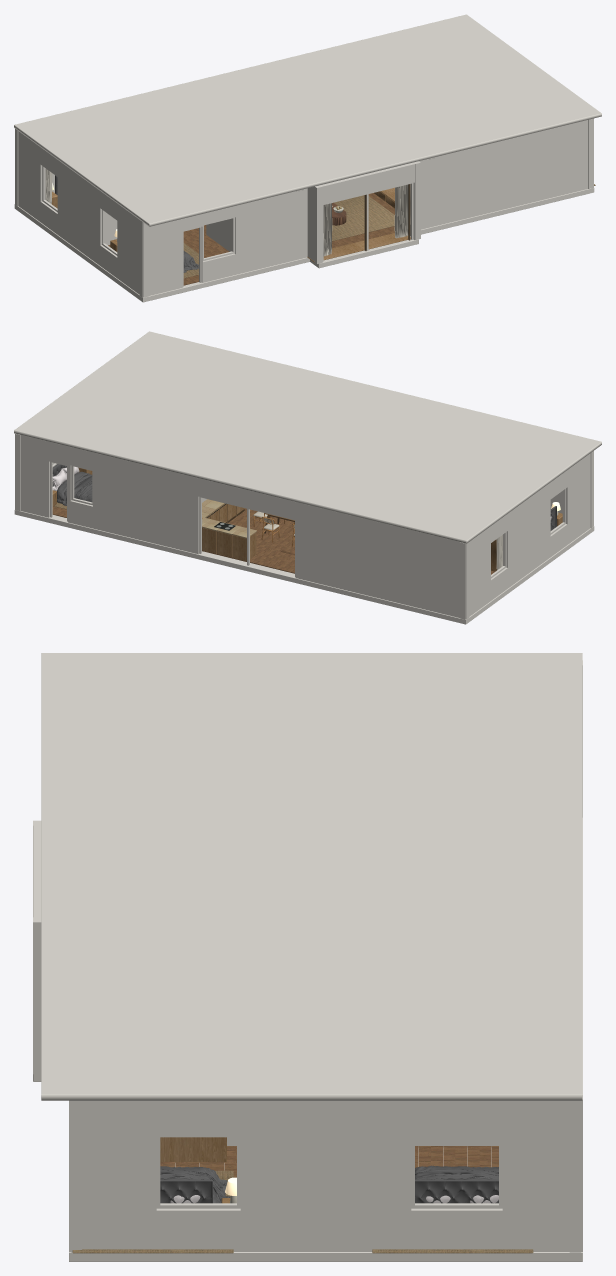
The model's file is modern_villa.glb.
3 renders of one model, top to bottom at view 1: azimuth 30°, elevation 25°; view 2: azimuth 150°, elevation 25°; view 3: azimuth 270°, elevation 25°, orthographic. The views are drawn at different scales.
Visible parts, largest first — view 1: Full apartment ceiling, Continuous full-height plaster architecture, Browser cutaway architecture, Main footprint, Wool area rug, South right linen drape, South entry oak floor, Recessed south entry, South left linen drape; view 2: Full apartment ceiling, Continuous full-height plaster architecture, Browser cutaway architecture, Main footprint, Cube.015, North run base; view 3: Full apartment ceiling, Continuous full-height plaster architecture, Browser cutaway architecture, Main footprint, Plane.010, SE full-height wardrobe, Plane.013, Southeast bedroom wool rug, Northeast bedroom wool rug, Plane.012.
Boxes of the visible parts, bbox=[...] form: Full apartment ceiling: bbox=[14, 14, 601, 226]; Continuous full-height plaster architecture: bbox=[15, 118, 593, 297]; Browser cutaway architecture: bbox=[18, 152, 593, 297]; Main footprint: bbox=[14, 188, 594, 302]; Wool area rug: bbox=[332, 195, 394, 241]; South right linen drape: bbox=[394, 184, 410, 238]; South entry oak floor: bbox=[307, 233, 410, 262]; Recessed south entry: bbox=[310, 236, 418, 268]; South left linen drape: bbox=[323, 203, 332, 256]; Full apartment ceiling: bbox=[14, 331, 601, 543]; Continuous full-height plaster architecture: bbox=[15, 433, 593, 619]; Browser cutaway architecture: bbox=[15, 463, 593, 619]; Main footprint: bbox=[14, 510, 594, 624]; Cube.015: bbox=[57, 471, 92, 505]; North run base: bbox=[232, 532, 256, 561]; Full apartment ceiling: bbox=[41, 653, 582, 1100]; Continuous full-height plaster architecture: bbox=[33, 660, 582, 1252]; Browser cutaway architecture: bbox=[33, 747, 582, 1252]; Main footprint: bbox=[69, 818, 582, 1261]; Plane.010: bbox=[415, 1179, 498, 1203]; SE full-height wardrobe: bbox=[160, 1137, 226, 1162]; Plane.013: bbox=[160, 1179, 212, 1203]; Southeast bedroom wool rug: bbox=[72, 1170, 233, 1253]; Northeast bedroom wool rug: bbox=[372, 1249, 533, 1253]; Plane.012: bbox=[415, 1169, 498, 1179].
Bounding box in the file's own units: 18.12 × 3.2 × 9.49.
39 materials, 18 textured.
